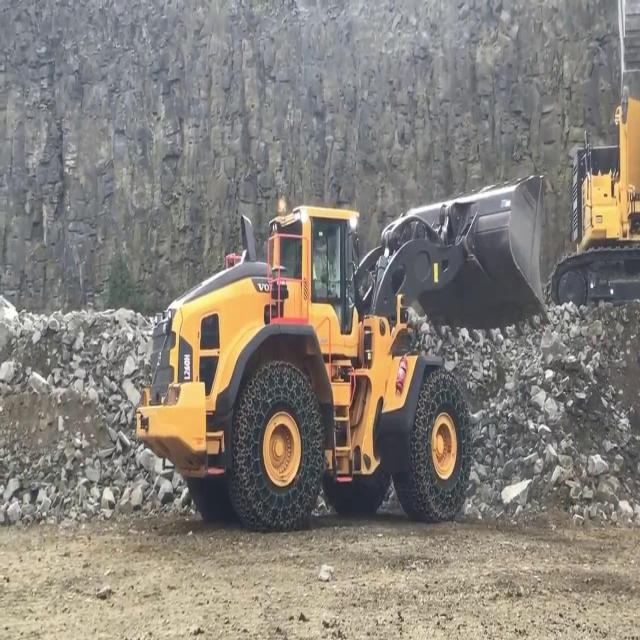buldozerpayloadergrader: (137, 174, 543, 534)
excavator: (546, 0, 640, 311)
